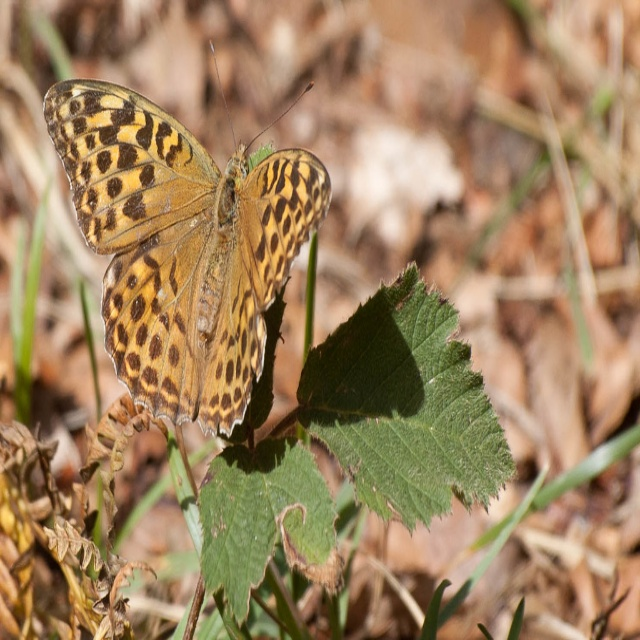Butterfly: (32, 39, 334, 451)
